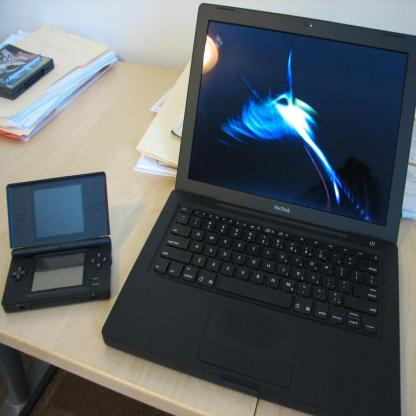board: (96, 12, 416, 398)
